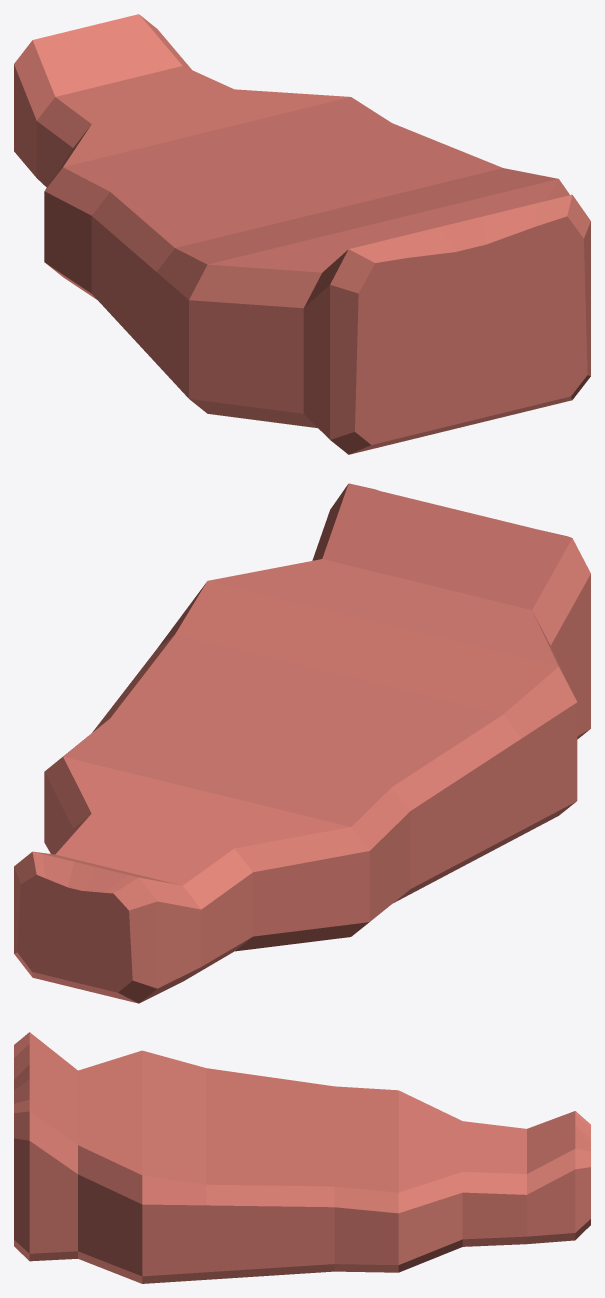
The model's file is calder_light_b.glb.
The picture shows the model from 3 angles, top to bottom: view 1: azimuth 30°, elevation 25°; view 2: azimuth 150°, elevation 25°; view 3: azimuth 270°, elevation 25°; orthographic projection. The views are drawn at different scales.
Visible parts, largest first — view 1: calder_light_b; view 2: calder_light_b; view 3: calder_light_b.
Boxes of the visible parts, box(x1,y1,x2,y2) form: calder_light_b: box(14, 14, 590, 454); calder_light_b: box(14, 483, 590, 1003); calder_light_b: box(14, 1032, 590, 1283).
Size of the model in its own units: 3 by 1.52 by 5.3.
